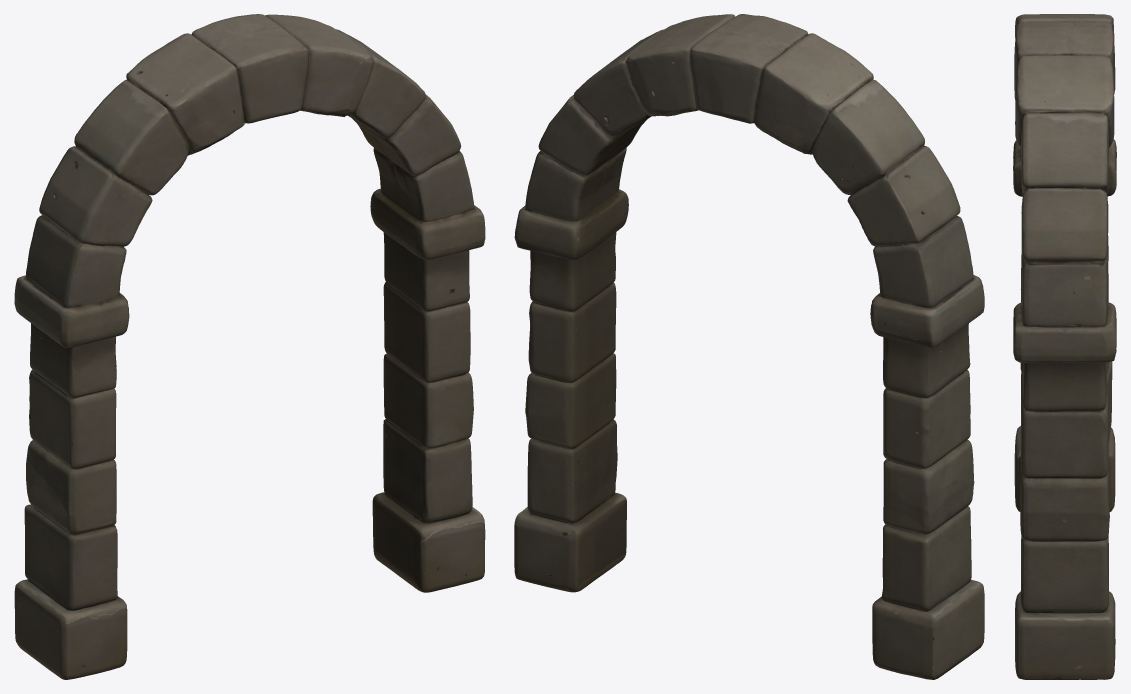
File: Stone_Archway_0723211023_texture.fbx
3 renders of one model, left to right at view 1: azimuth 30°, elevation 25°; view 2: azimuth 150°, elevation 25°; view 3: azimuth 270°, elevation 25°, orthographic. The views are drawn at different scales.
Parts seen in each view (by area): view 1: input; view 2: input; view 3: input.
Boxes of the visible parts, x1,y1,x2,y2 form: input: (14, 14, 485, 679); input: (514, 14, 984, 679); input: (1013, 14, 1116, 679).
Bounding box in the file's own units: 154 × 200 × 34.17.
1 material, 1 textured.
